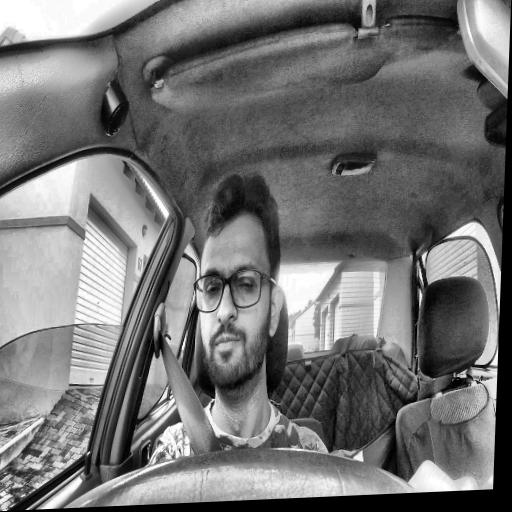drowsy: (189, 167, 288, 395)
